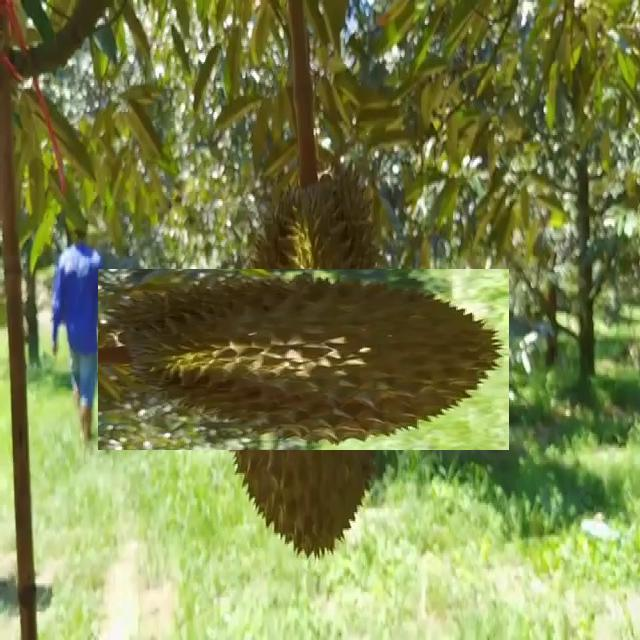durian: (156, 211, 452, 508)
